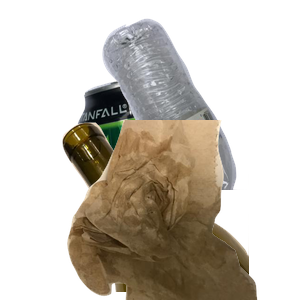glass: (60, 120, 300, 300)
metal: (74, 74, 257, 254)
plastic: (100, 16, 300, 196)
trash: (65, 120, 300, 300)
